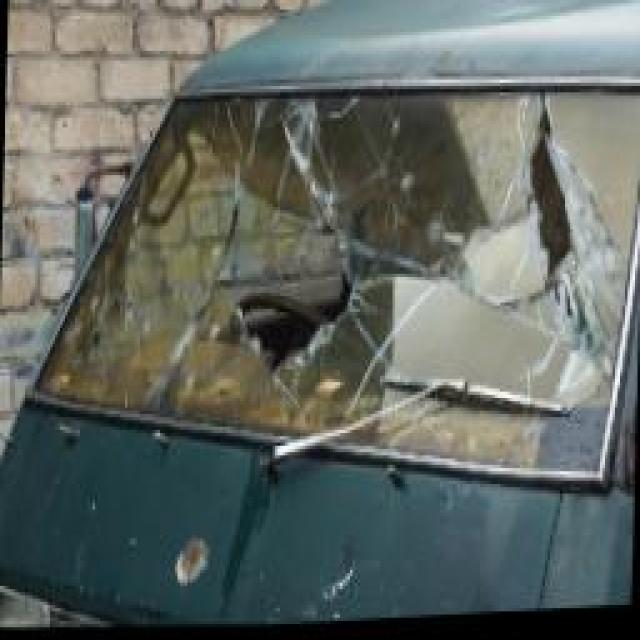Bonnet: (150, 516, 490, 633)
Windshield: (40, 64, 632, 491)
